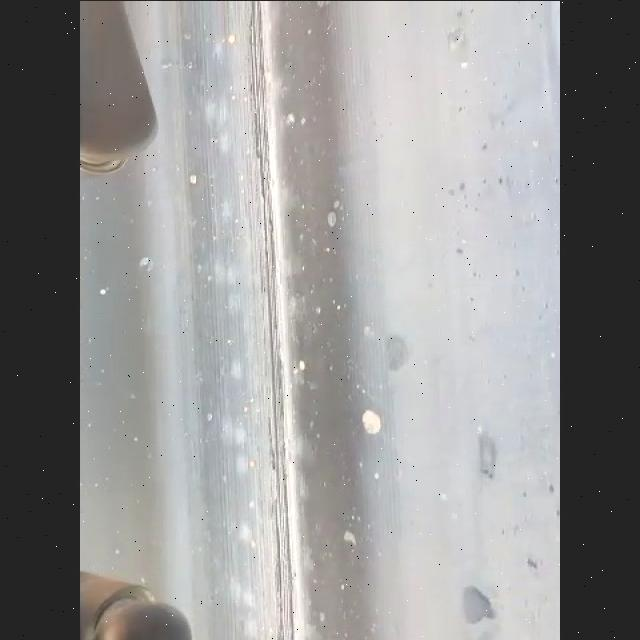Wear: (246, 0, 303, 640)
